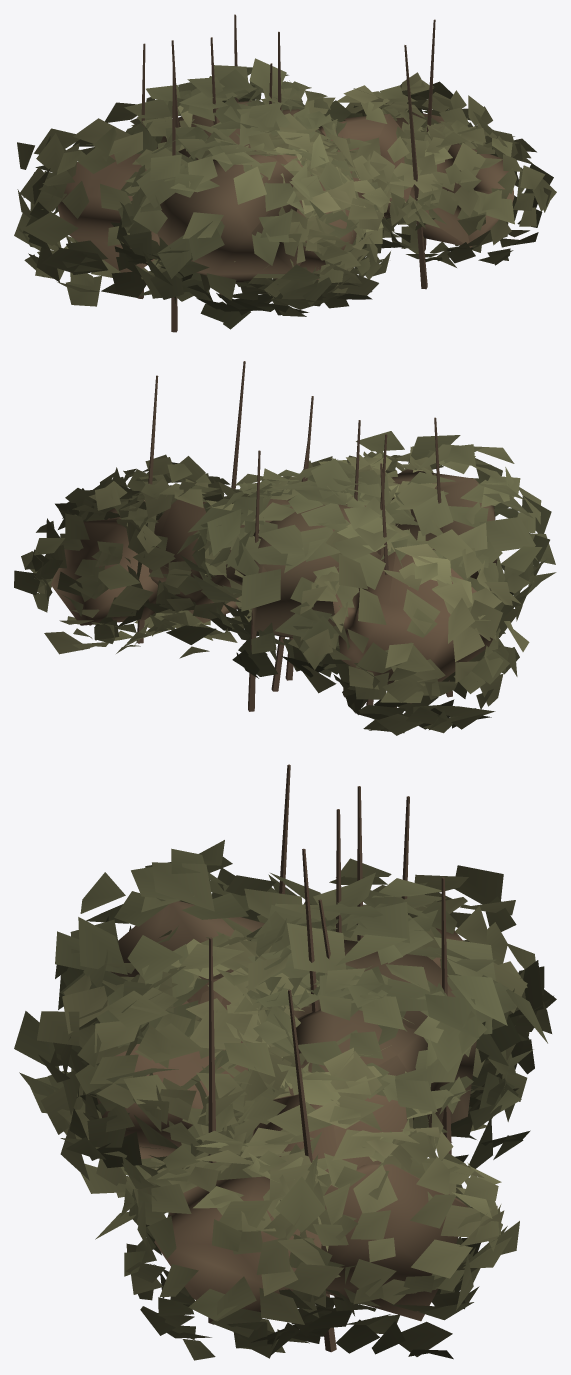
File: alpataco.glb
The picture shows the model from 3 angles, top to bottom: view 1: azimuth 30°, elevation 25°; view 2: azimuth 150°, elevation 25°; view 3: azimuth 270°, elevation 25°; orthographic projection. The views are drawn at different scales.
Visible parts, largest first — view 1: MatorralBHojas, MatorralBCopa, MatorralBVarillas; view 2: MatorralBHojas, MatorralBCopa, MatorralBVarillas; view 3: MatorralBHojas, MatorralBCopa, MatorralBVarillas.
Part boxes in pixels (<box>): MatorralBHojas: <box>14,58,556,329</box>; MatorralBCopa: <box>57,101,514,283</box>; MatorralBVarillas: <box>137,14,435,332</box>; MatorralBHojas: <box>14,431,556,735</box>; MatorralBCopa: <box>51,469,497,703</box>; MatorralBVarillas: <box>136,361,452,711</box>; MatorralBHojas: <box>14,840,556,1360</box>; MatorralBCopa: <box>97,901,476,1321</box>; MatorralBVarillas: <box>208,764,451,1352</box>.
Bounding box in the file's own units: 2.76 × 1.48 × 1.84.
